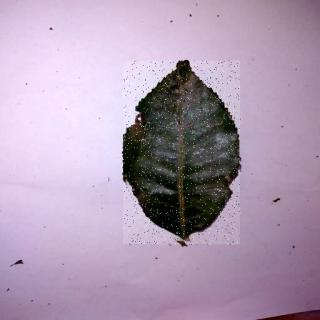Anthracnose: (125, 62, 242, 247)
